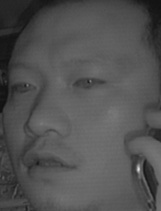eye: (72, 72, 104, 92), (10, 77, 39, 96)
mouth: (20, 144, 78, 183)
